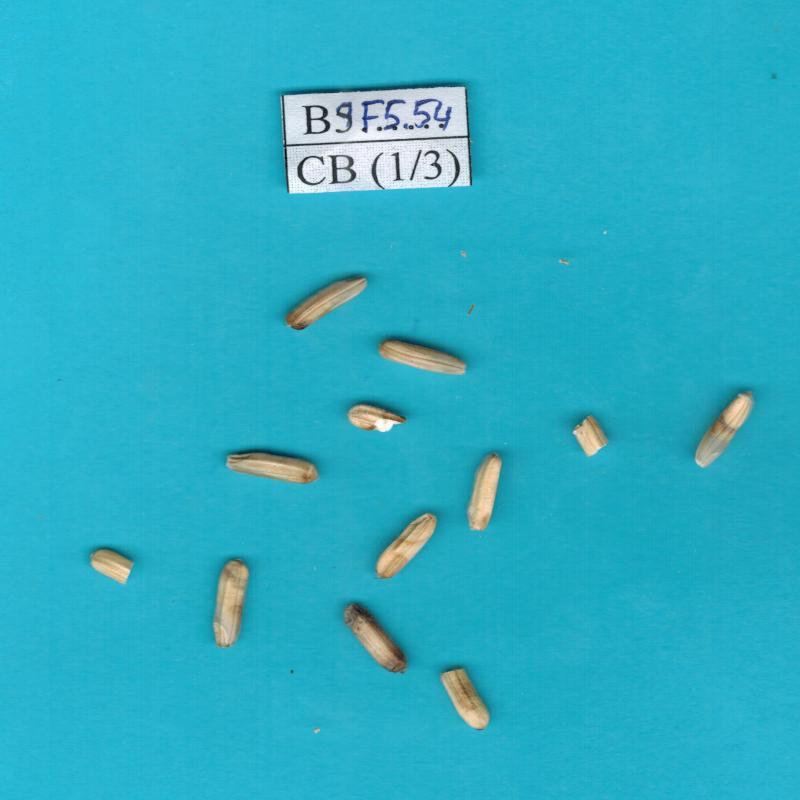Break: (440, 669, 490, 729), (346, 405, 407, 432), (90, 549, 134, 585), (572, 415, 608, 457)
Inferior: (283, 276, 368, 330), (695, 392, 753, 468), (344, 604, 406, 673), (375, 513, 437, 579), (379, 339, 467, 375), (213, 559, 248, 648), (225, 452, 320, 484), (468, 453, 502, 531)
